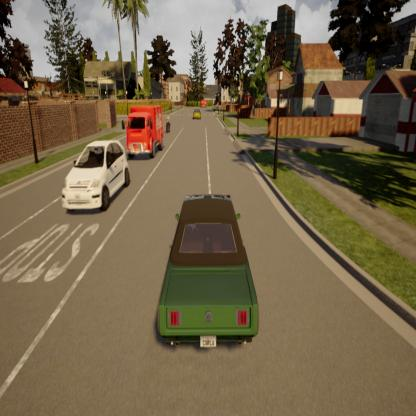Cars: (153, 185, 265, 362), (57, 134, 133, 221)
